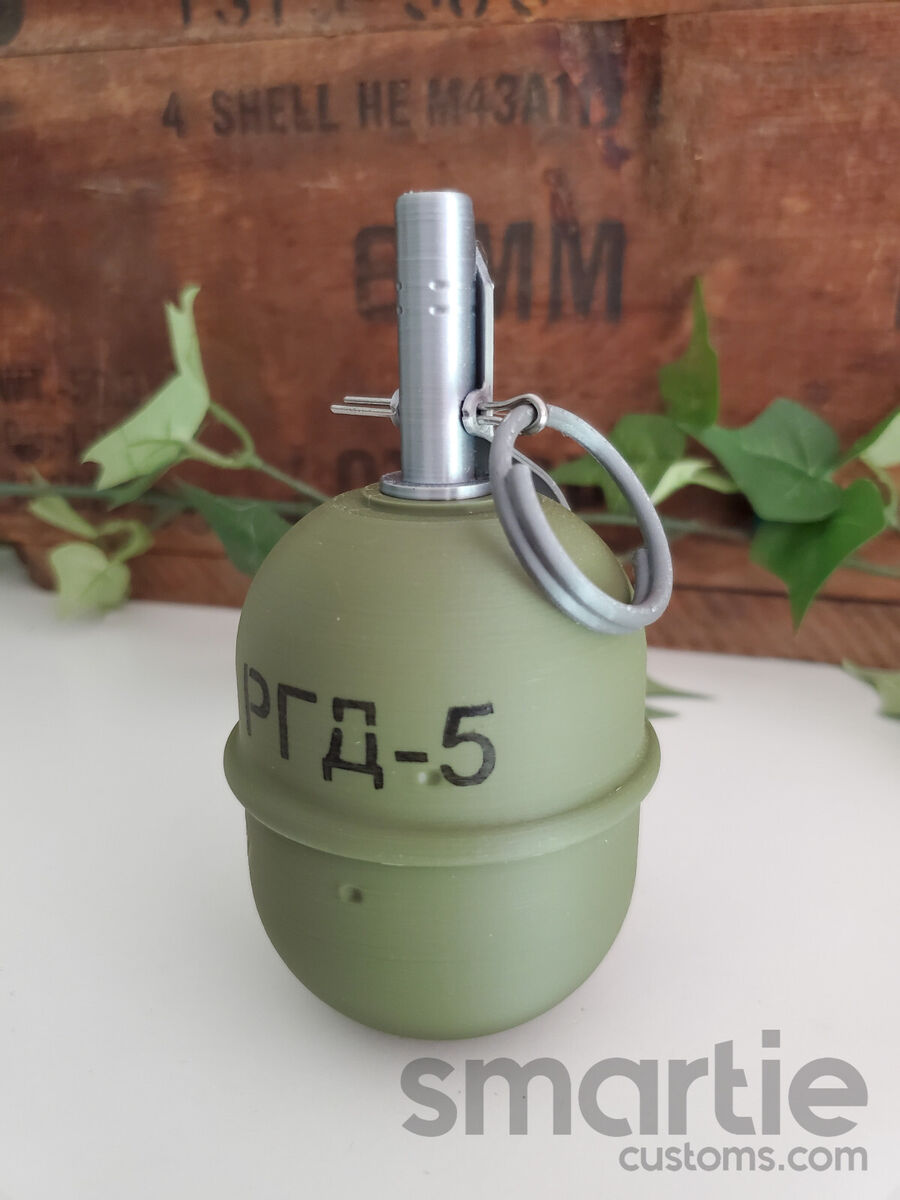RGD 5: (226, 184, 665, 1036)
